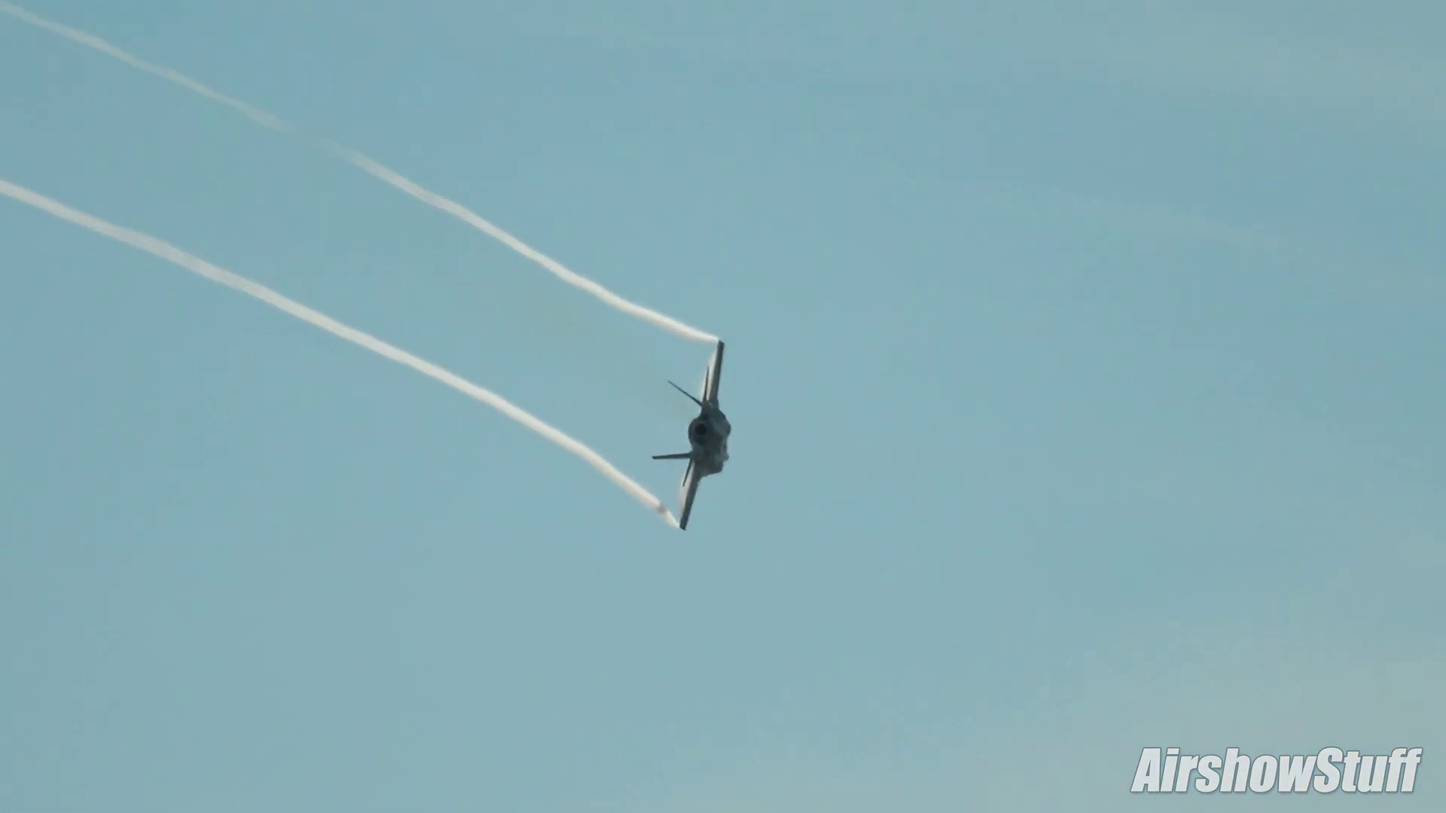F35: (646, 335, 735, 533)
